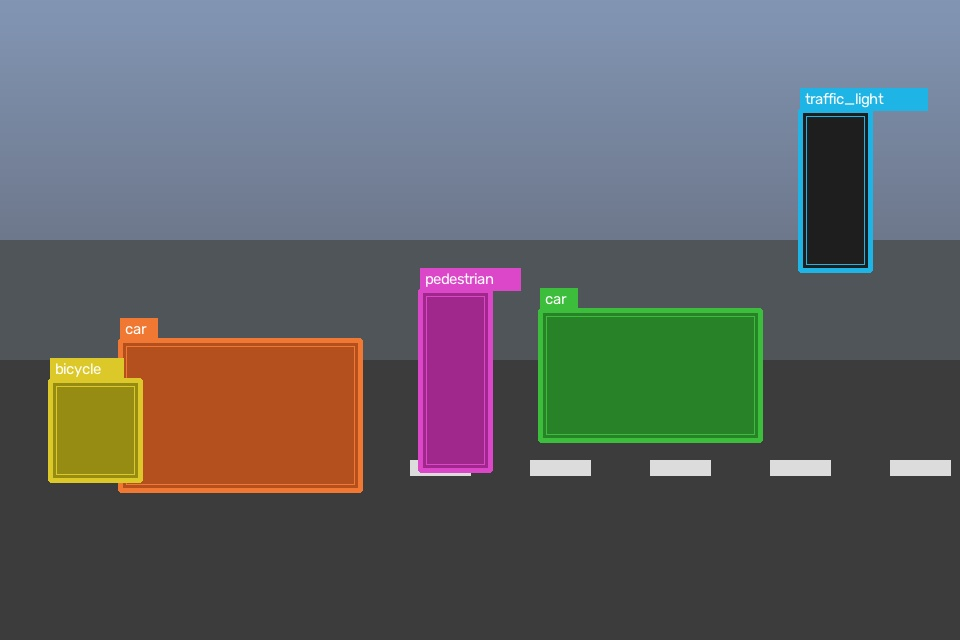bicycle: (50, 380, 140, 480)
car: (120, 340, 360, 490), (540, 310, 760, 440)
pedestrian: (420, 290, 490, 470)
traffic_light: (800, 110, 870, 270)
